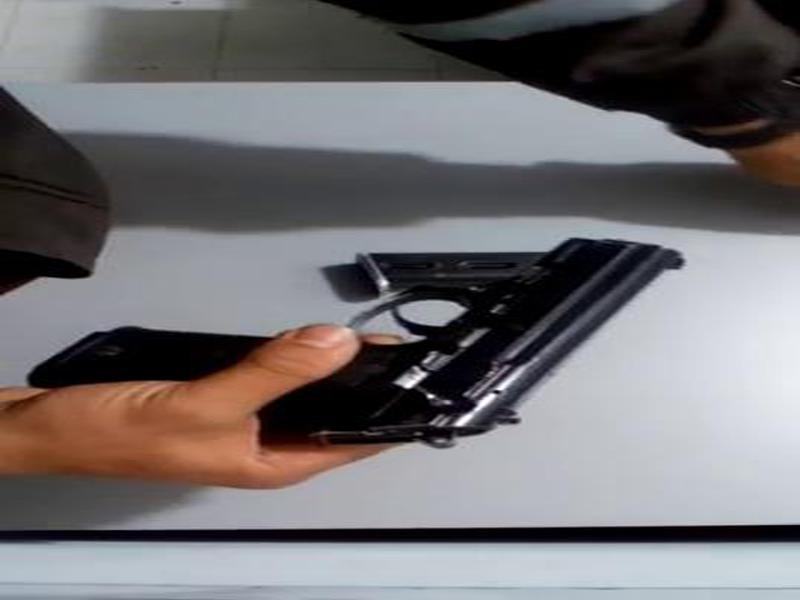Pistola: (1, 219, 713, 449)
